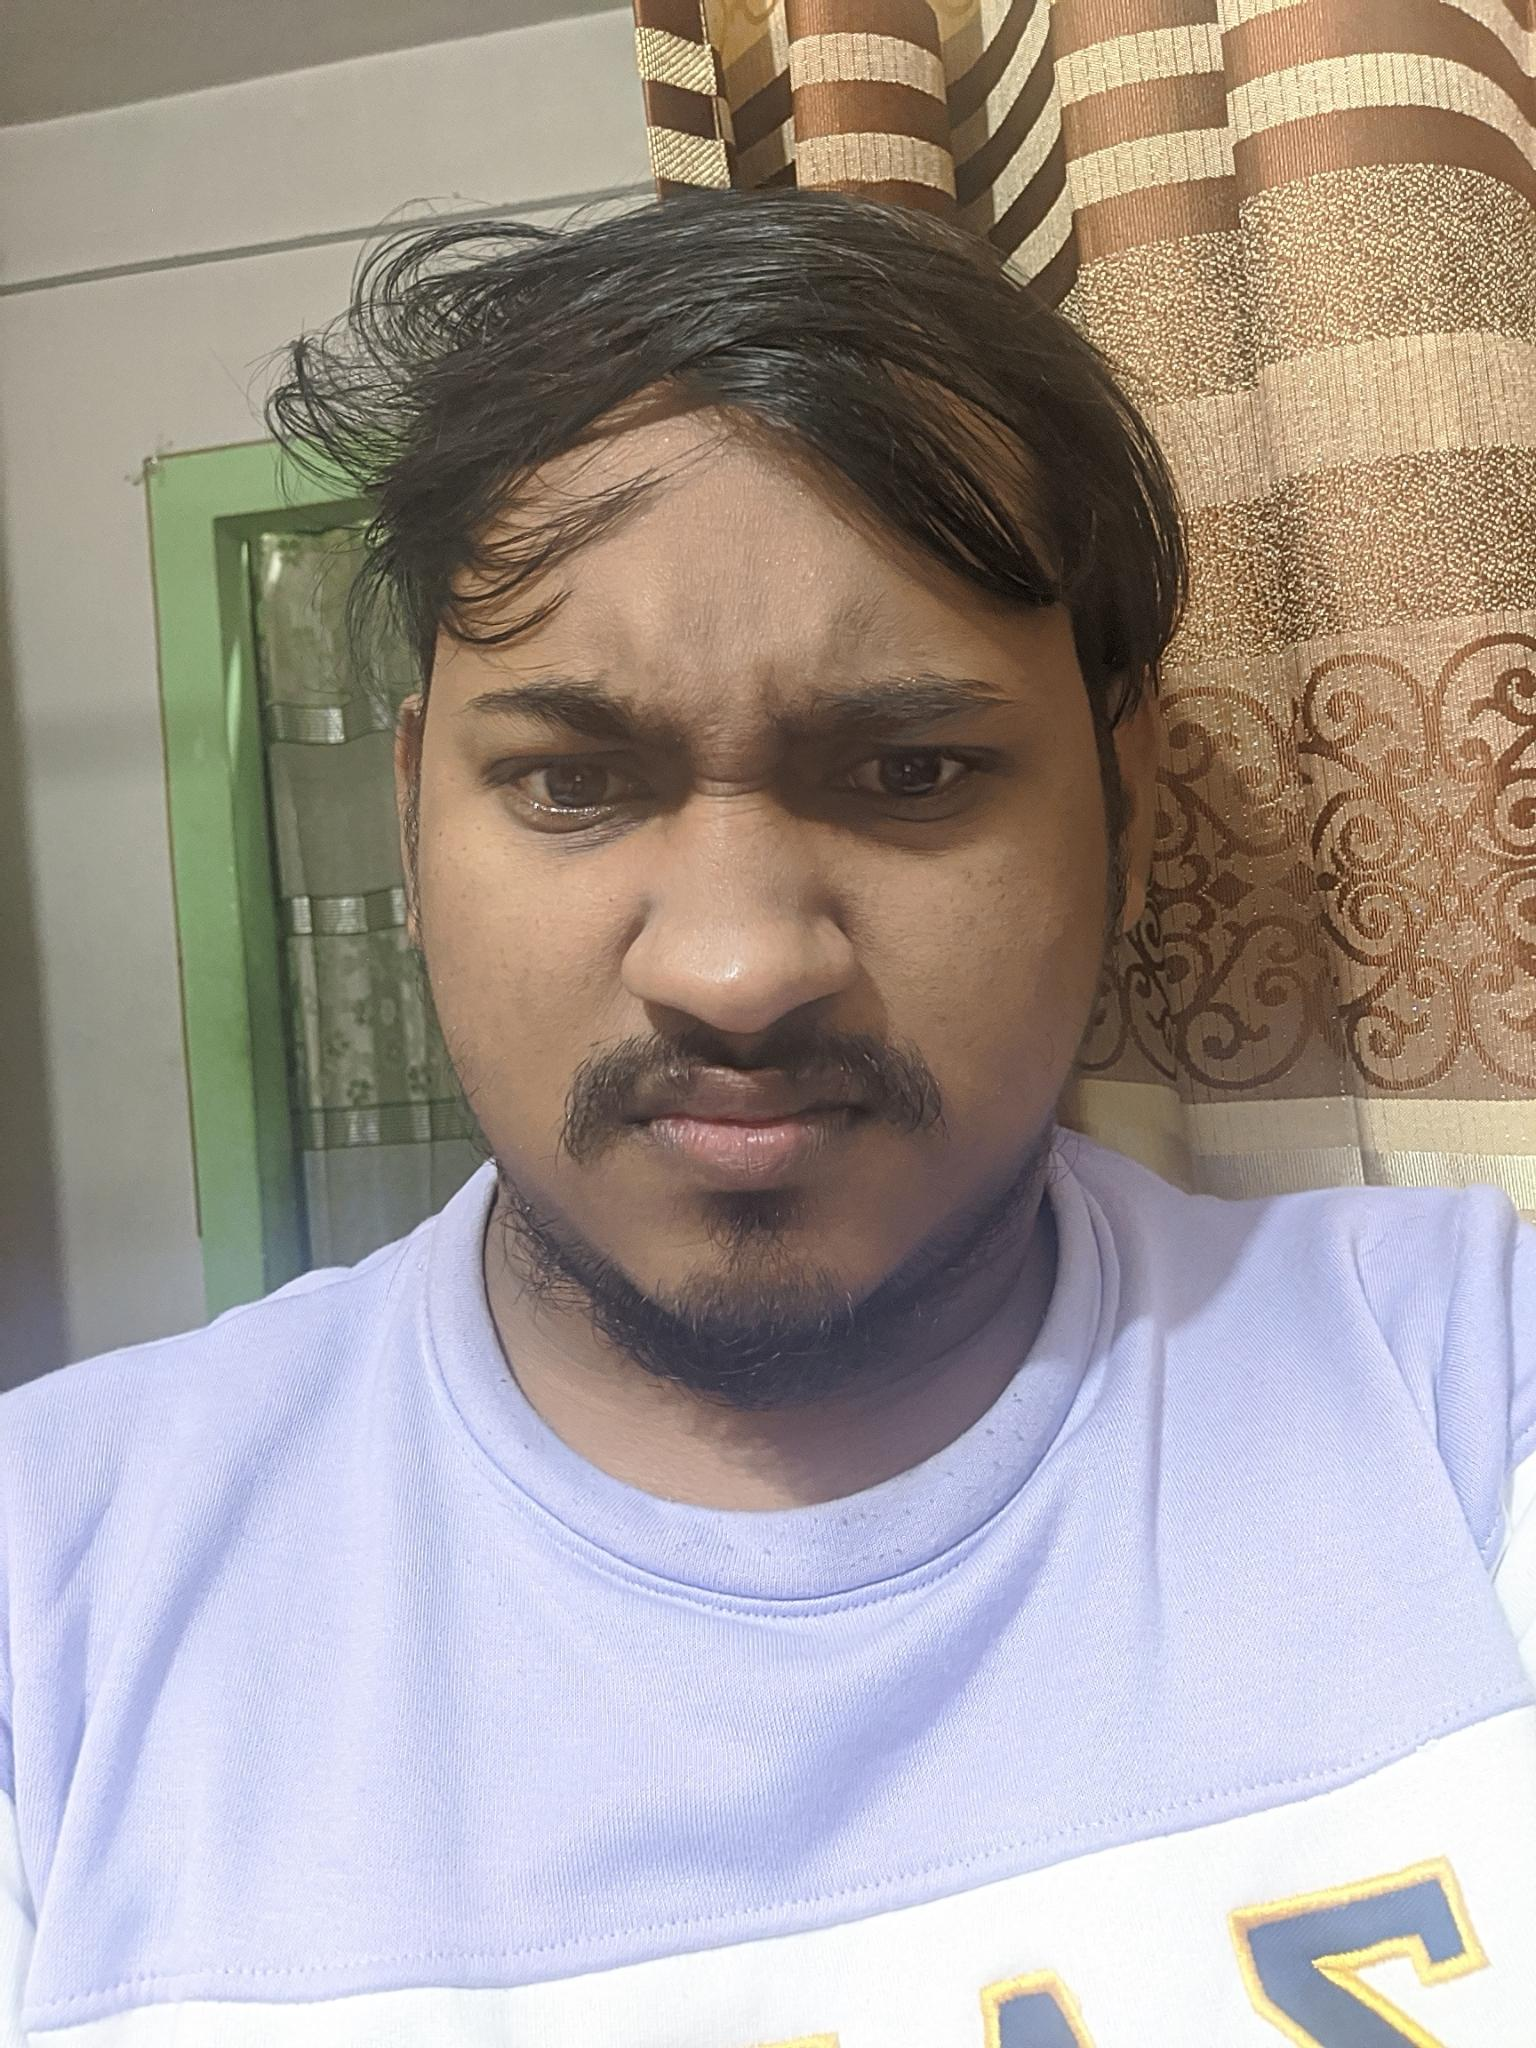Angry: (397, 579, 1120, 1351)
